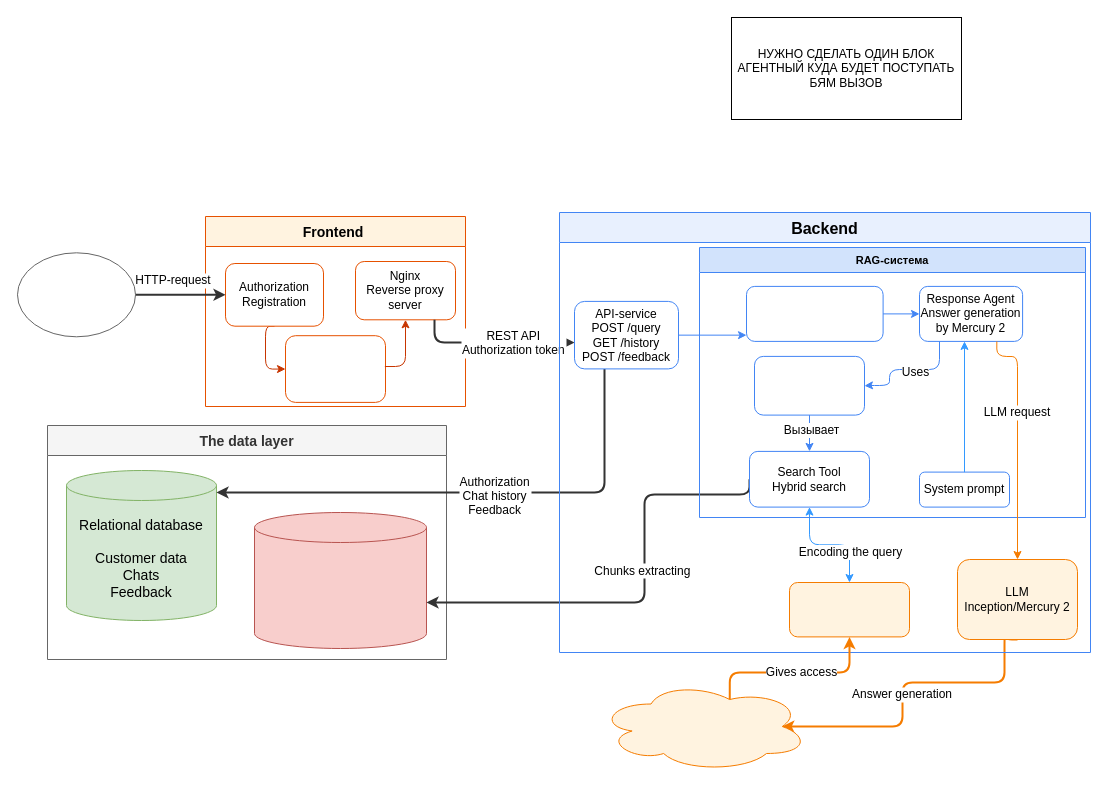
Some shapes in this 1108 by 789 pixel diagram are drawn without their labels. The shapes that lost their labels are listed below. From the top down, each one's centre as x and y in pixels, then its label:
At point 76,294: "Bashkirenergo client".
At point 814,313: "Query Generator Query rephrasing decomposition".
At point 335,368: "Chat-interface History / Profile".
At point 809,385: "Search Agent Search parameters selection".
At point 340,580: "Vector base Fragment Data 3 vectors per fragment".
At point 849,609: "Embedding model Perplexity".
At point 703,726: "RouterAI Cloud service".
